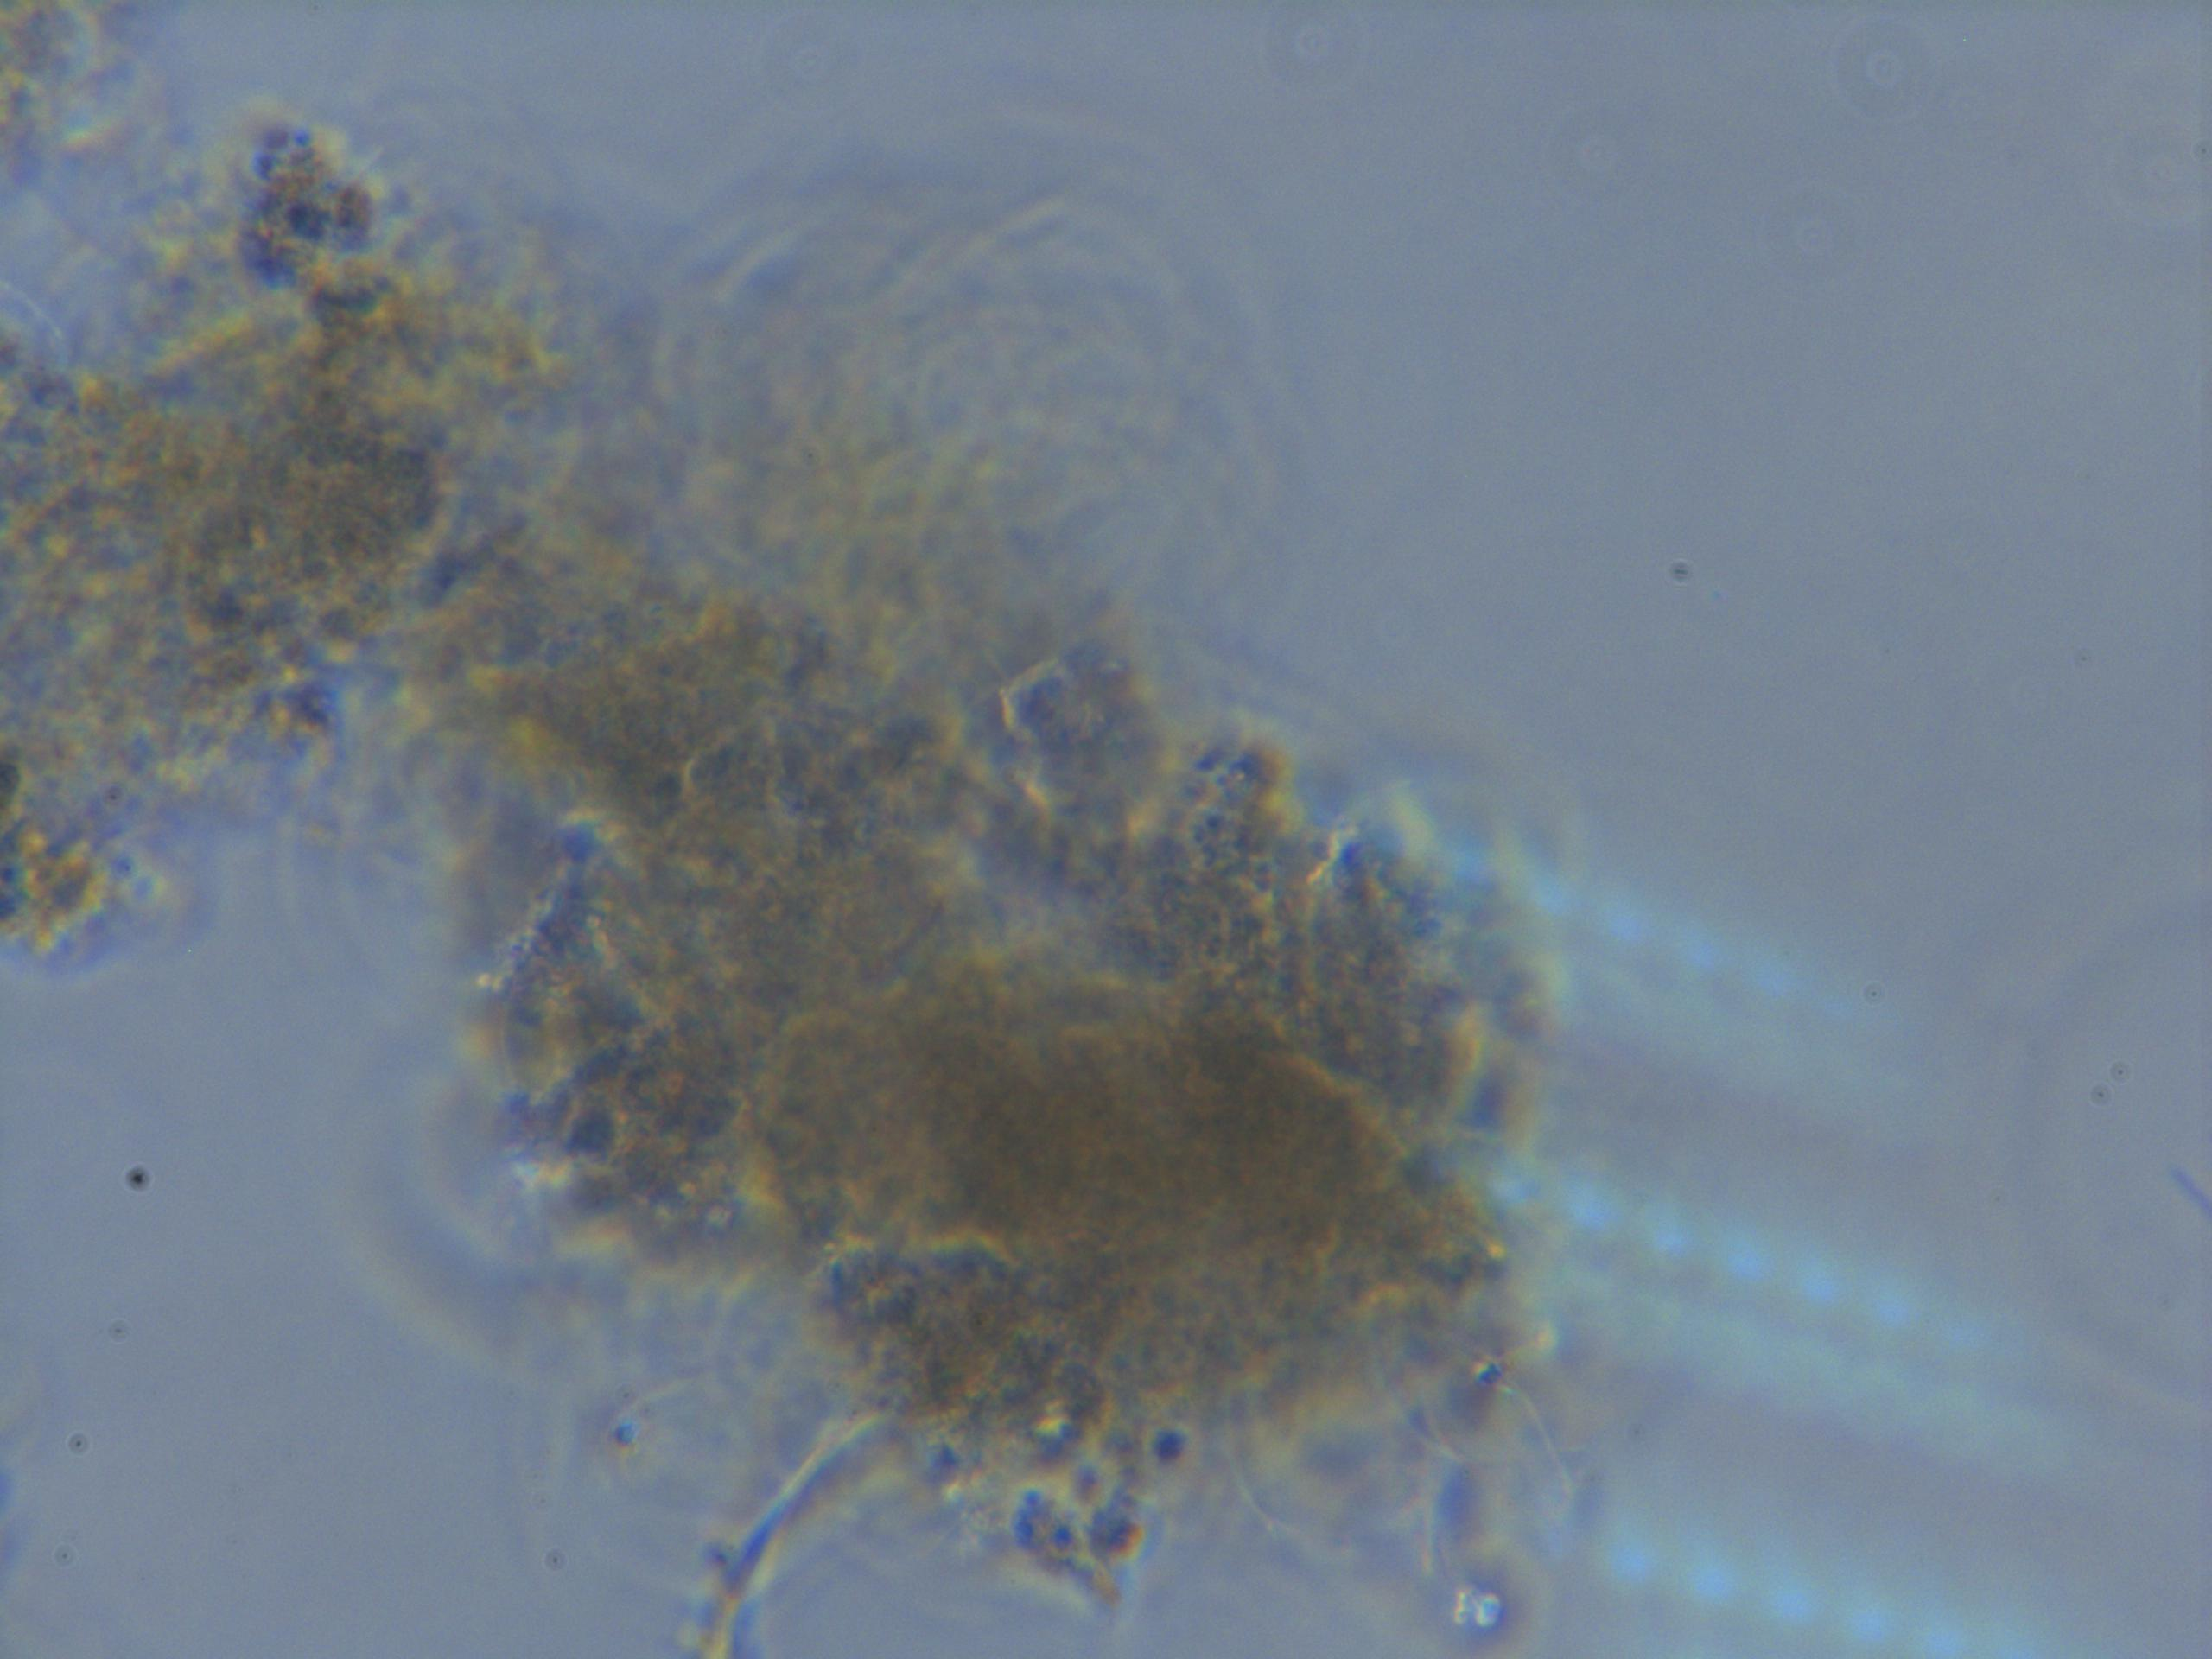spherical_floc: (451, 573, 1519, 1502)
